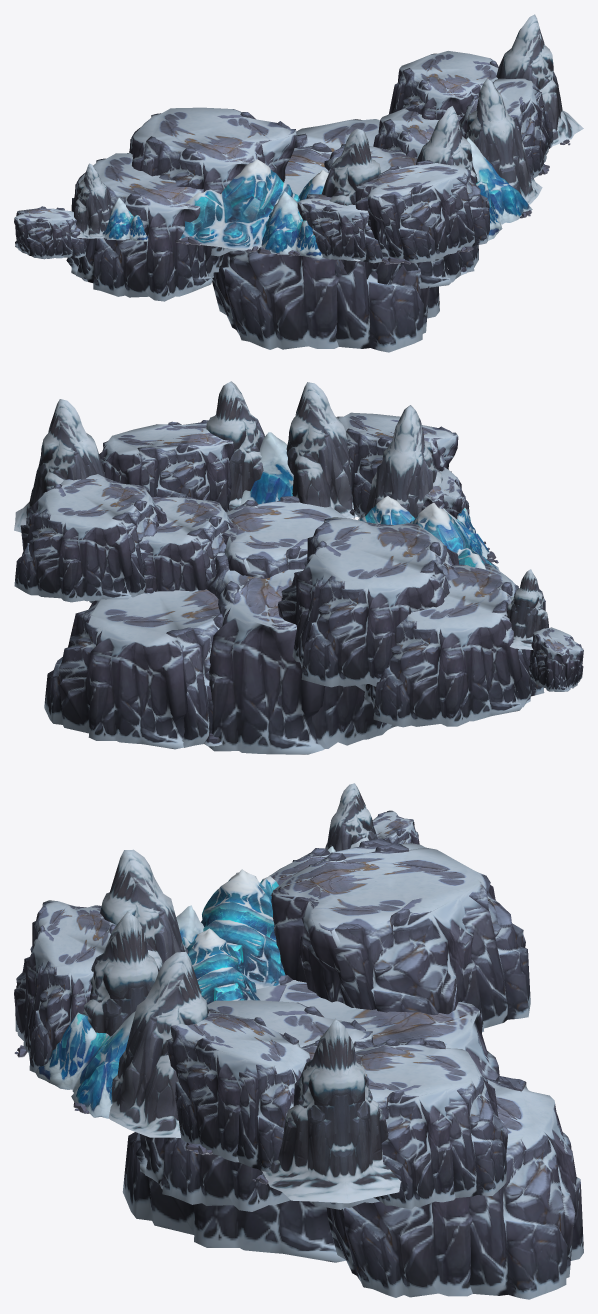
Rendered from yanshi19_1.fbx.
3 views of the same model, one above another, from view 1: azimuth 30°, elevation 25°; view 2: azimuth 150°, elevation 25°; view 3: azimuth 270°, elevation 25° (orthographic). The views are drawn at different scales.
Visible parts, largest first — view 1: yanshi19_1; view 2: yanshi19_1; view 3: yanshi19_1.
Part boxes in pixels (<box>): yanshi19_1: <box>14,14,583,352</box>; yanshi19_1: <box>14,381,583,754</box>; yanshi19_1: <box>14,783,583,1299</box>.
Bounding box in the file's own units: 7918 × 3217 × 5131.
